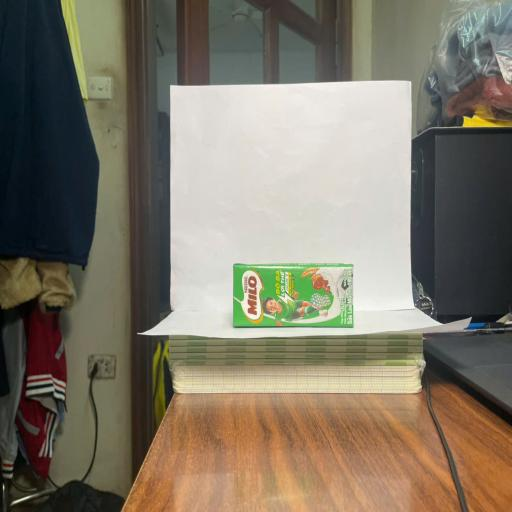milo: (233, 263, 354, 328)
